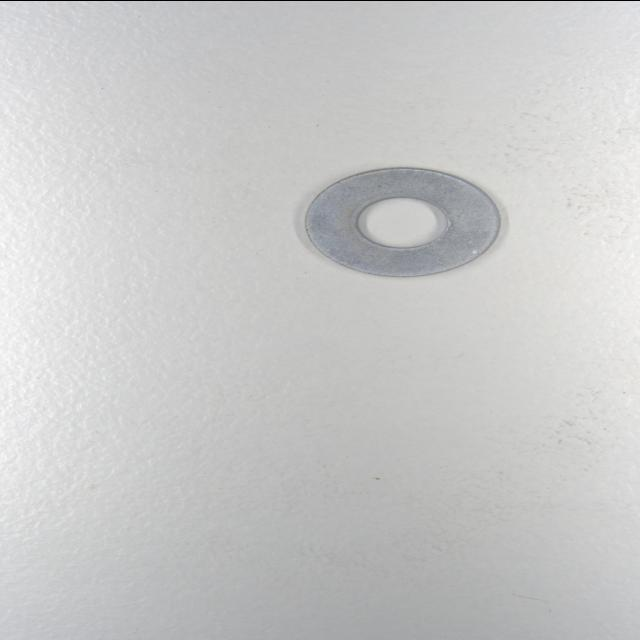washer: (301, 166, 504, 276)
